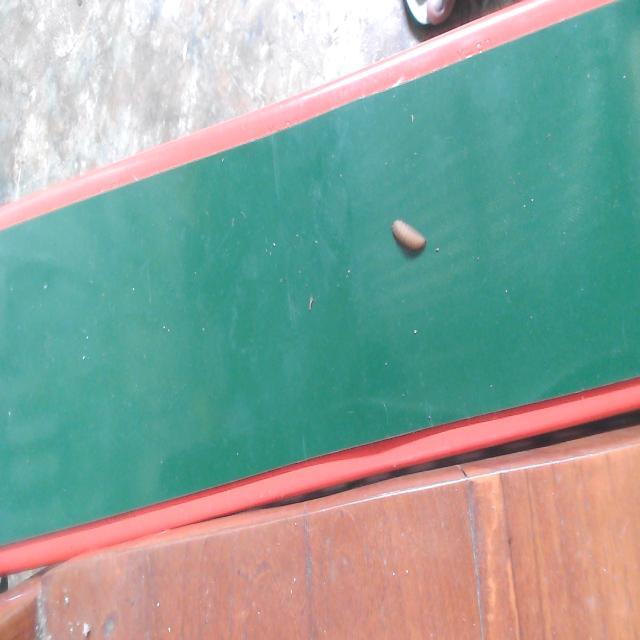Maggot: (391, 220, 430, 260)
